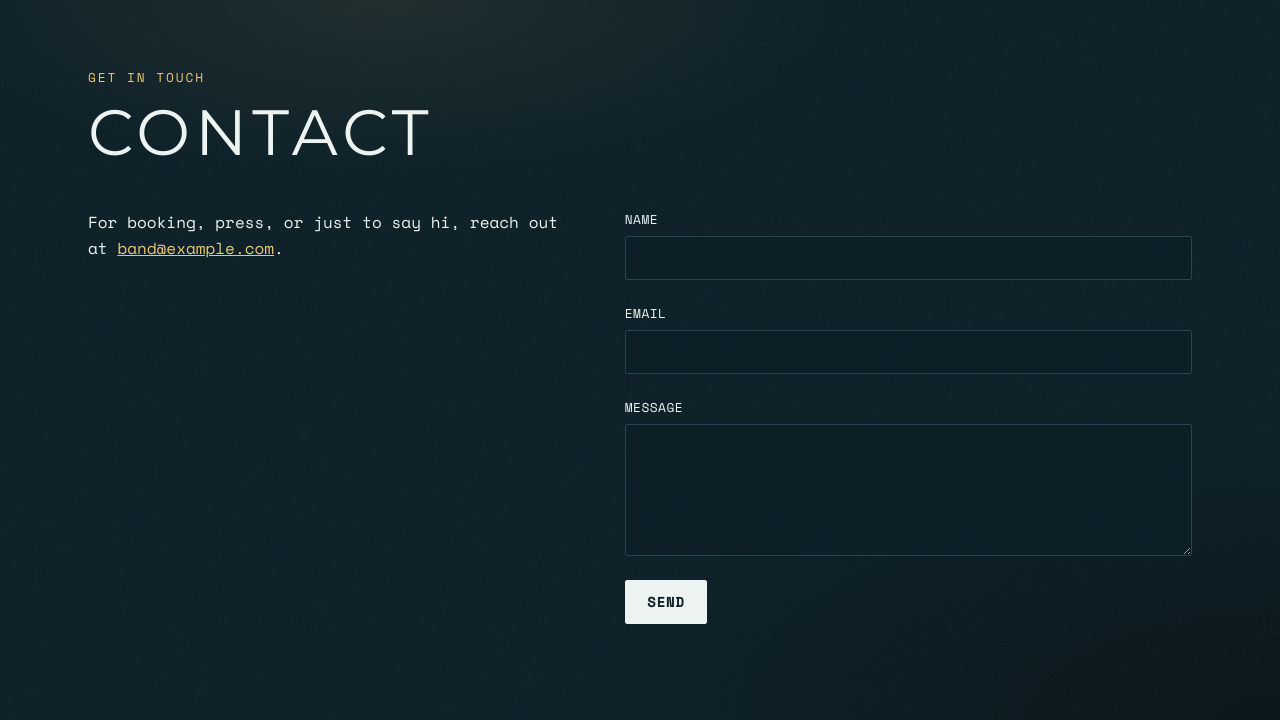
Test: Contact › shows the error state when the API responds with a non-2xx status
In the field labelled "Name": (908, 258) [625,236,1192,280], type "Jane"
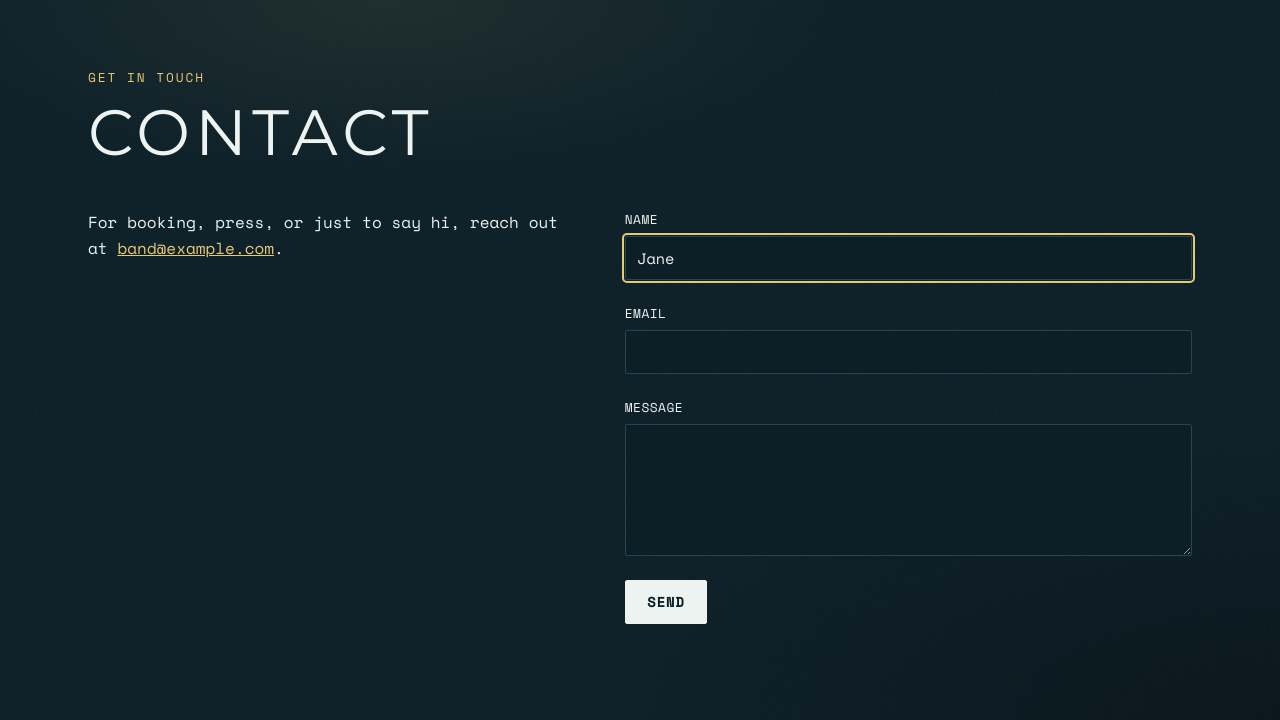
In the field labelled "Email": (908, 352) [625,330,1192,374], type "jane@example.com"
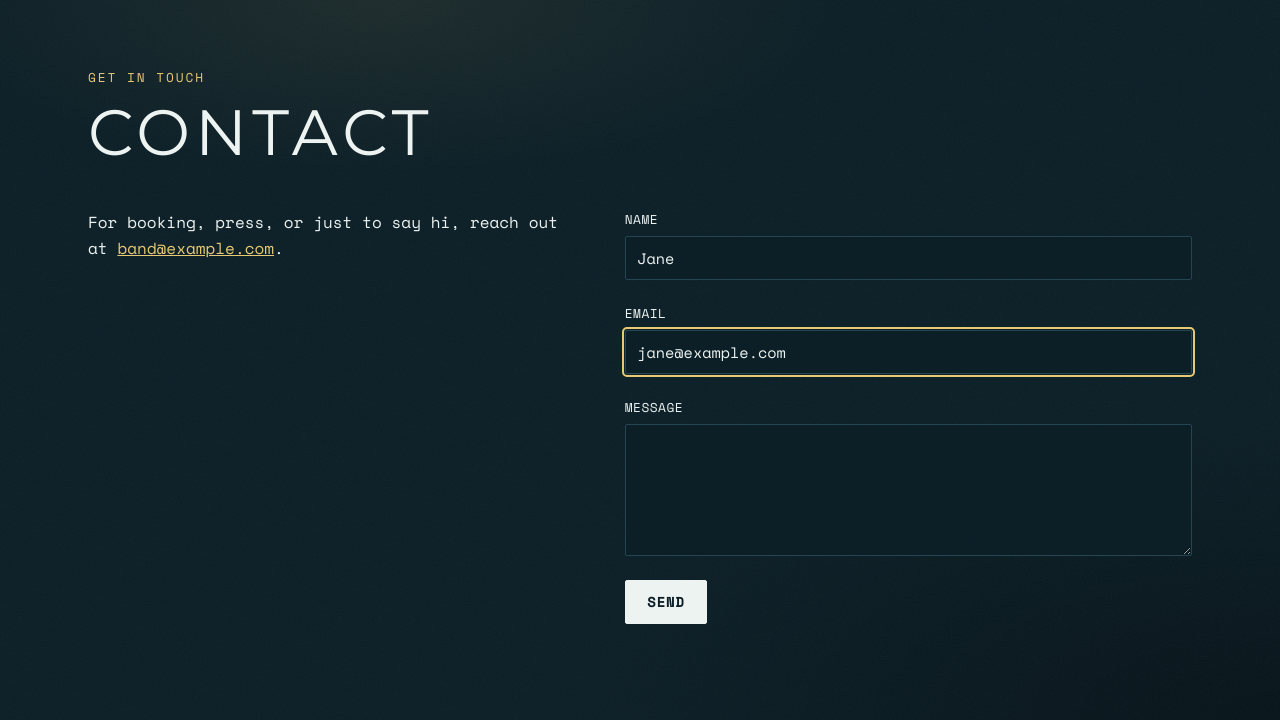
In the text box labelled "Message": (908, 490) [625,424,1192,556], type "Hello!"
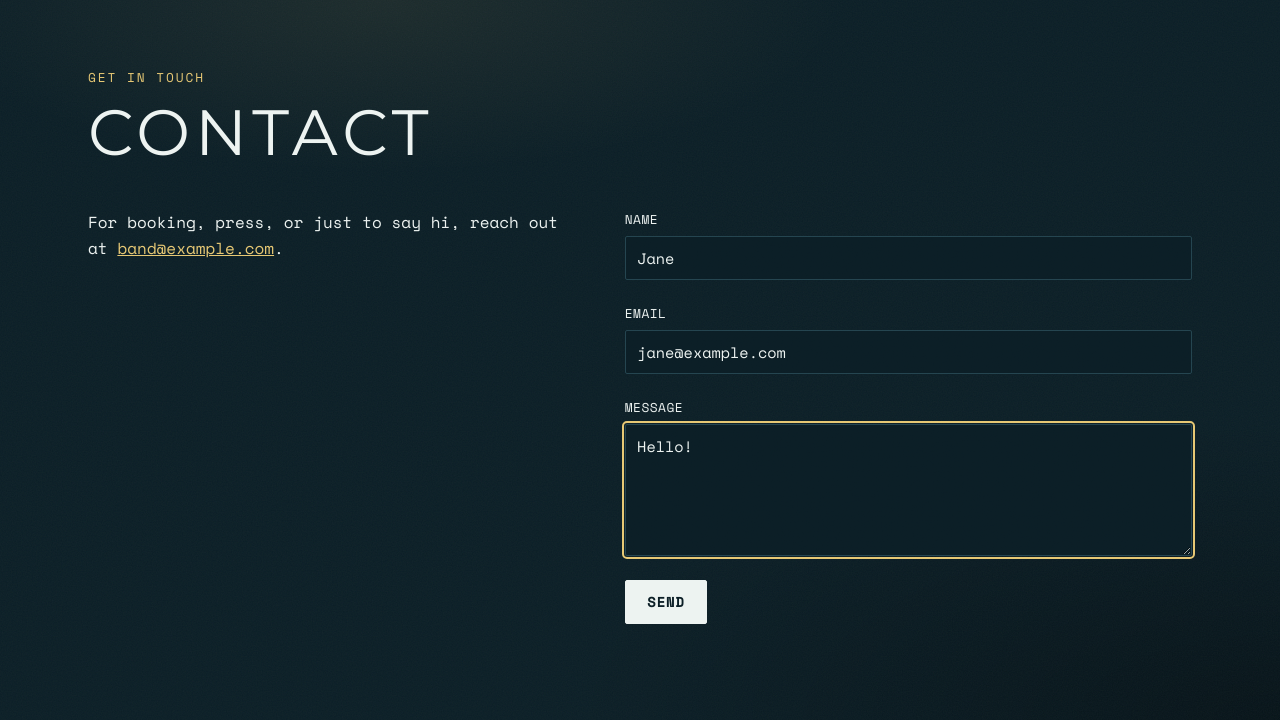
Click the button "Send": click(666, 602) [625,580,707,624]
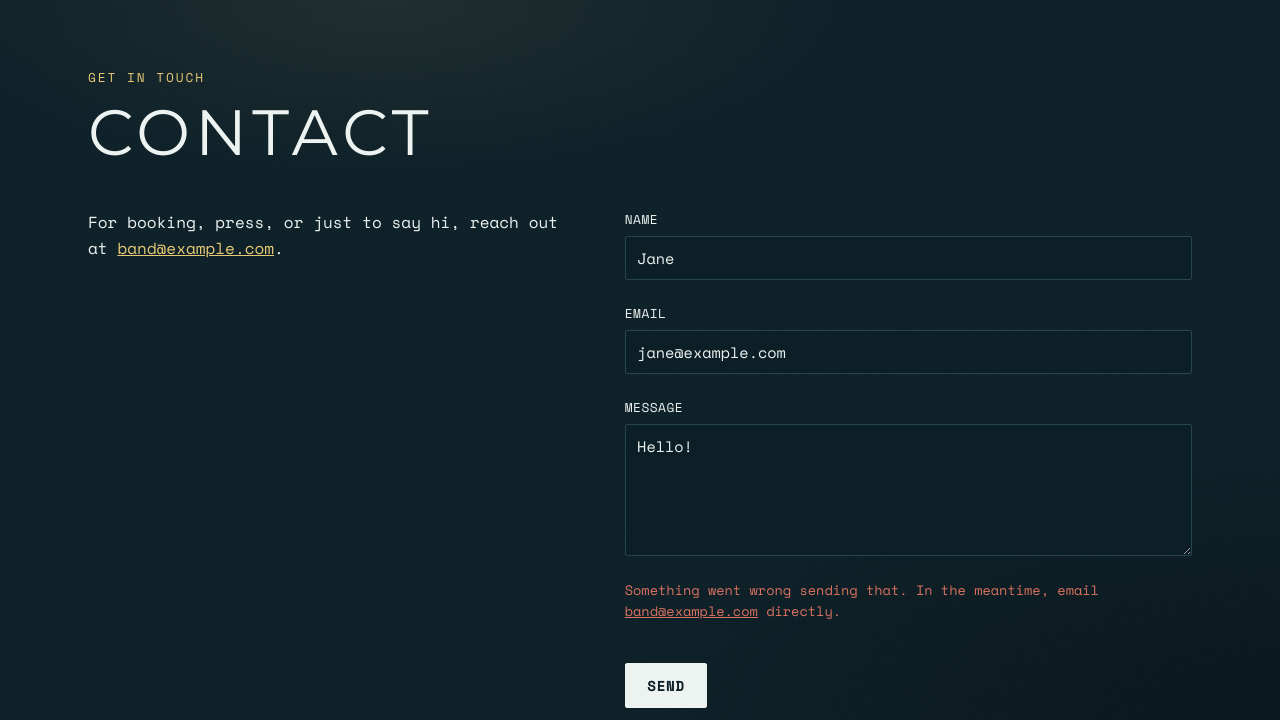
Now the message shows "Something went wrong", box [625,580,1099,600]
